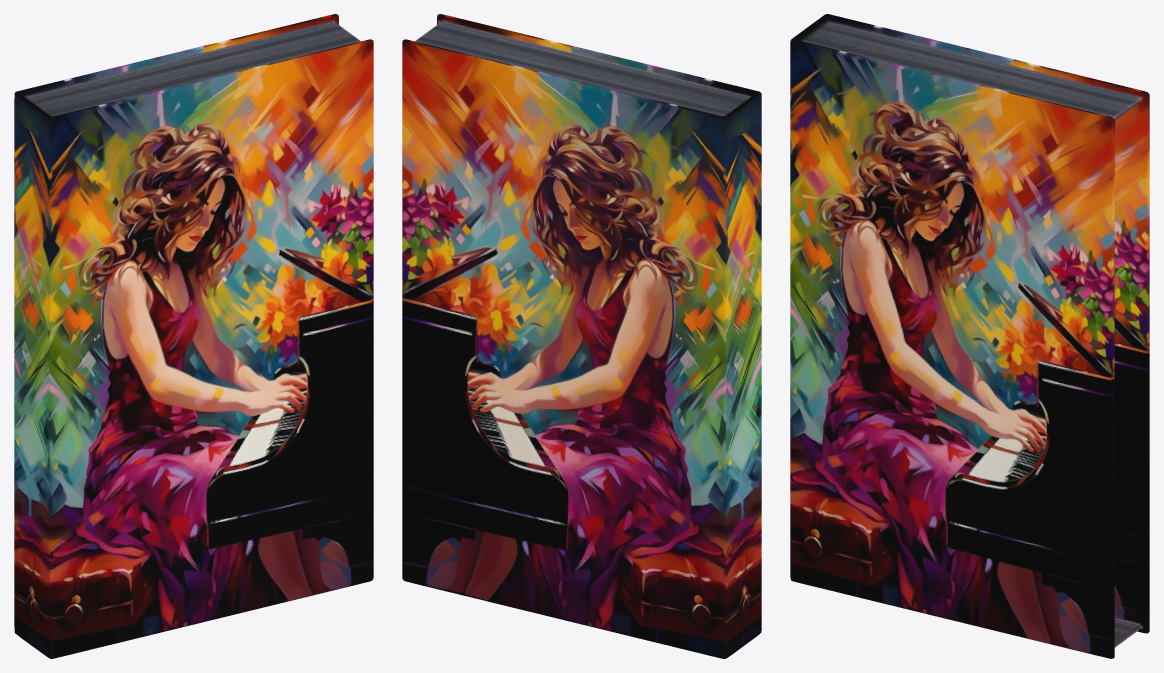
File: bed-piano-canvas.glb
3 renders of one model, left to right at view 1: azimuth 30°, elevation 25°; view 2: azimuth 150°, elevation 25°; view 3: azimuth 330°, elevation 25°, orthographic.
Size of the model in its own units: 1.19 by 1.9 by 0.2345.
Materials: 1 (1 with a texture image).
